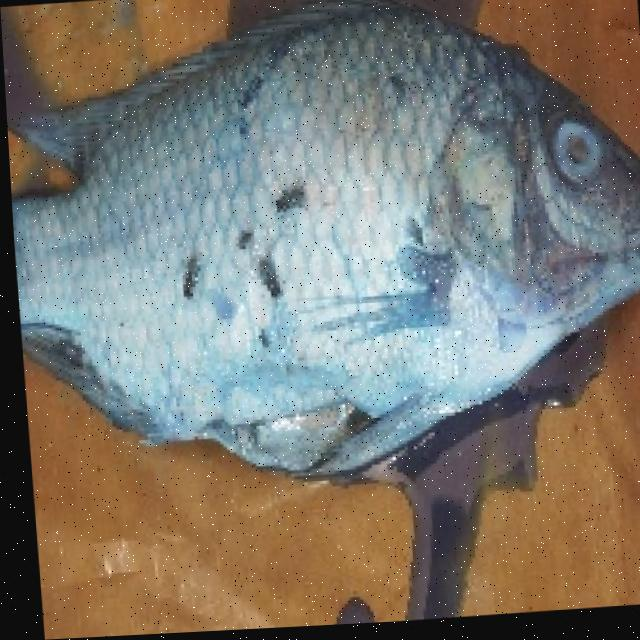Non-Fresh: (121, 0, 573, 439), (529, 107, 613, 203)
